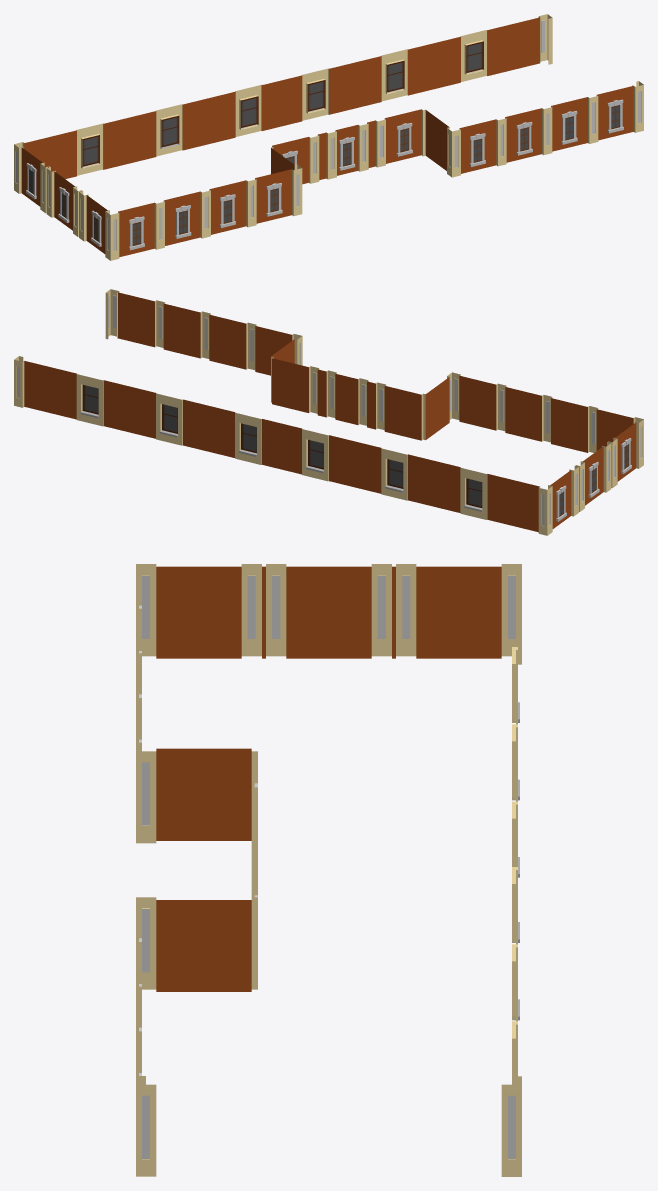
The model's file is BuildingSmall3_2.fbx.
3 renders of one model, top to bottom at view 1: azimuth 30°, elevation 25°; view 2: azimuth 150°, elevation 25°; view 3: azimuth 270°, elevation 25°, orthographic. The views are drawn at different scales.
Parts seen in each view (by area): view 1: BuildingSmall3_3; view 2: BuildingSmall3_3; view 3: BuildingSmall3_3.
Boxes of the visible parts, x1,y1,x2,y2 form: BuildingSmall3_3: (14,14,643,260); BuildingSmall3_3: (14,289,643,535); BuildingSmall3_3: (136,564,521,1176).
Size of the model in its own units: 6061 by 500 by 1900.
